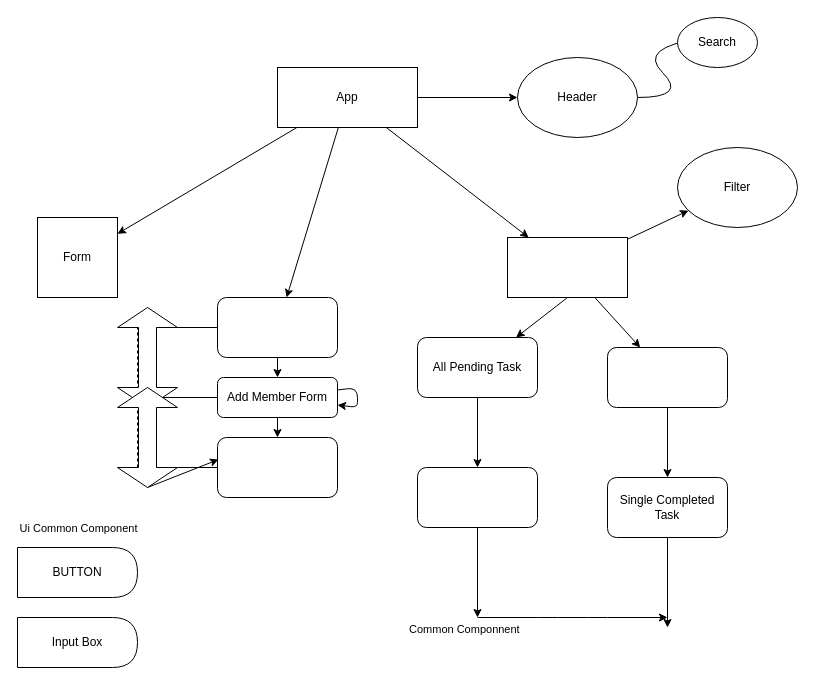
This 815x685 diagram has some shape labels left out. The centre of each missing label's shape, as x and y in pixels:
"All Completed Task" goes at (x=667, y=377).
"Display All Member" goes at (x=277, y=467).
"Member" goes at (x=277, y=327).
"Single Pending Task" goes at (x=477, y=497).
"Task" goes at (x=567, y=267).
